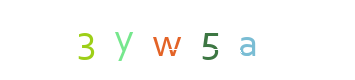3: (47, 0, 127, 80)
5: (144, 0, 224, 80)
A: (170, 0, 250, 80)
W: (137, 0, 217, 80)
Y: (126, 0, 206, 80)
